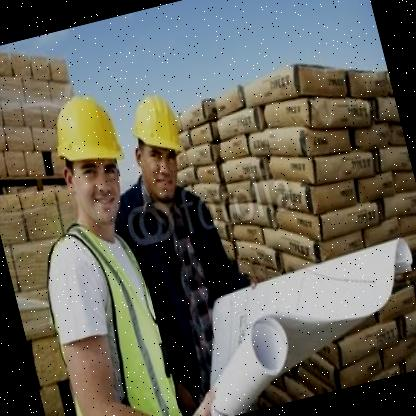capacete: (46, 88, 138, 223), (119, 89, 197, 209)
colete_refletivo: (23, 204, 188, 415)
sem_colete_refletivo: (119, 164, 262, 408)
